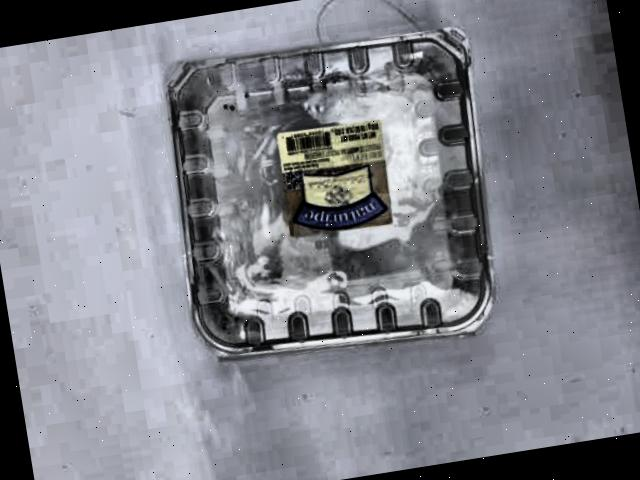Plastic: (129, 0, 526, 377)
